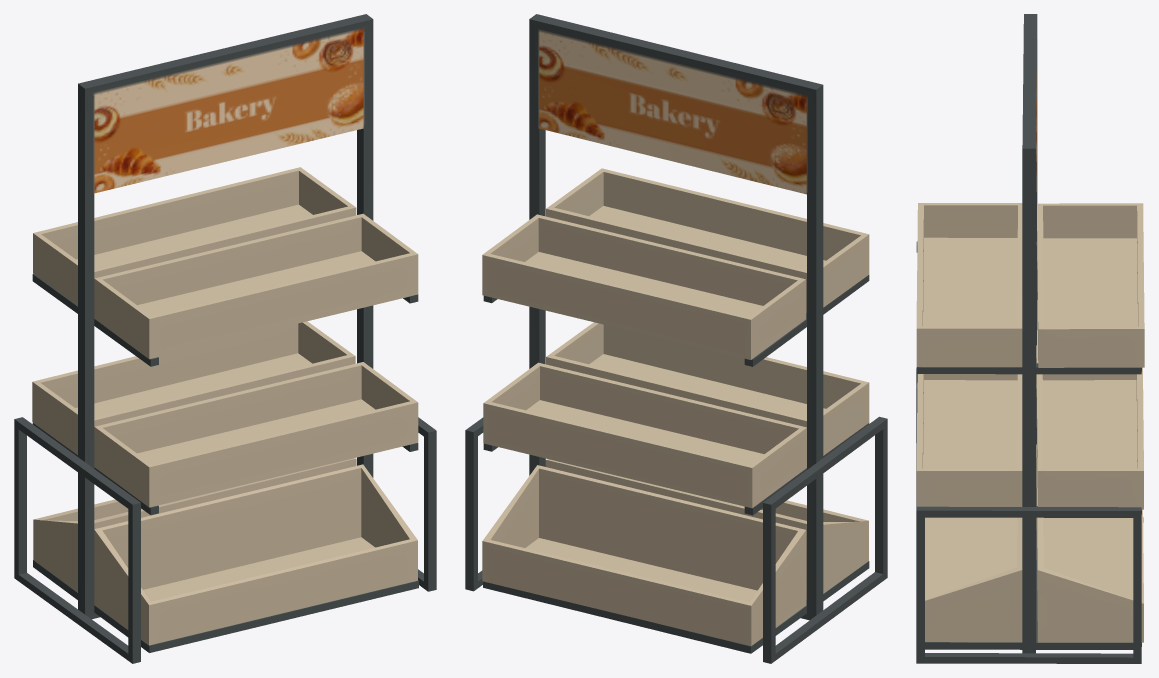
The model's file is BakeryRack.fbx.
3 views of the same model, side by side, from view 1: azimuth 30°, elevation 25°; view 2: azimuth 150°, elevation 25°; view 3: azimuth 270°, elevation 25° (orthographic). The views are drawn at different scales.
Parts seen in each view (by area): view 1: BakeryRack; view 2: BakeryRack; view 3: BakeryRack.
Boxes of the visible parts, left/top/right/bottom form: BakeryRack: left=14, top=14, right=436, bottom=663; BakeryRack: left=465, top=14, right=887, bottom=663; BakeryRack: left=916, top=14, right=1144, bottom=663.
Size of the model in its own units: 97.54 by 162 by 65.62.
